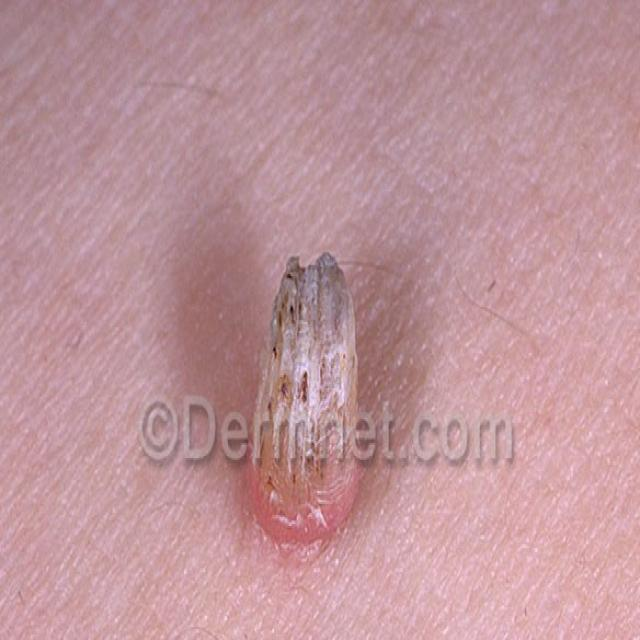Warts: (231, 223, 382, 586)
